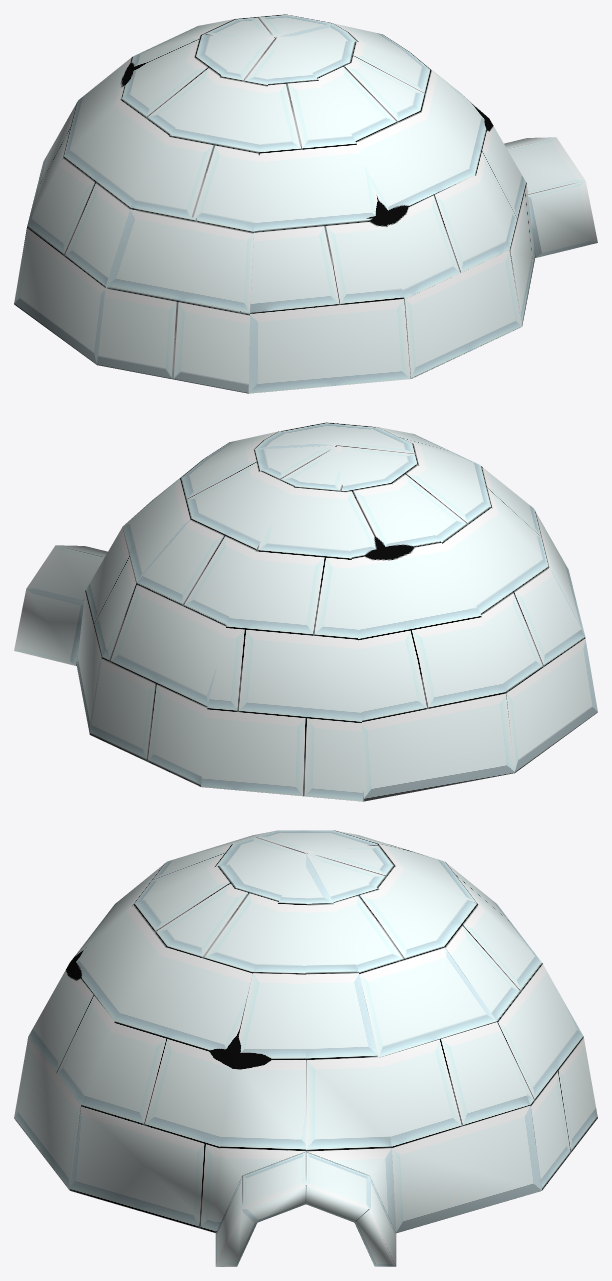
The model's file is Igloo_Mountain_001.fbx.
3 renders of one model, top to bottom at view 1: azimuth 30°, elevation 25°; view 2: azimuth 150°, elevation 25°; view 3: azimuth 270°, elevation 25°, orthographic. The views are drawn at different scales.
Parts seen in each view (by area): view 1: 球体; view 2: 球体; view 3: 球体.
Boxes of the visible parts, left/top/right/bottom form: 球体: left=14, top=14, right=597, bottom=393; 球体: left=14, top=422, right=597, bottom=801; 球体: left=14, top=830, right=597, bottom=1266.
Bounding box in the file's own units: 215 × 100 × 200.
Materials: 1 (1 with a texture image).
